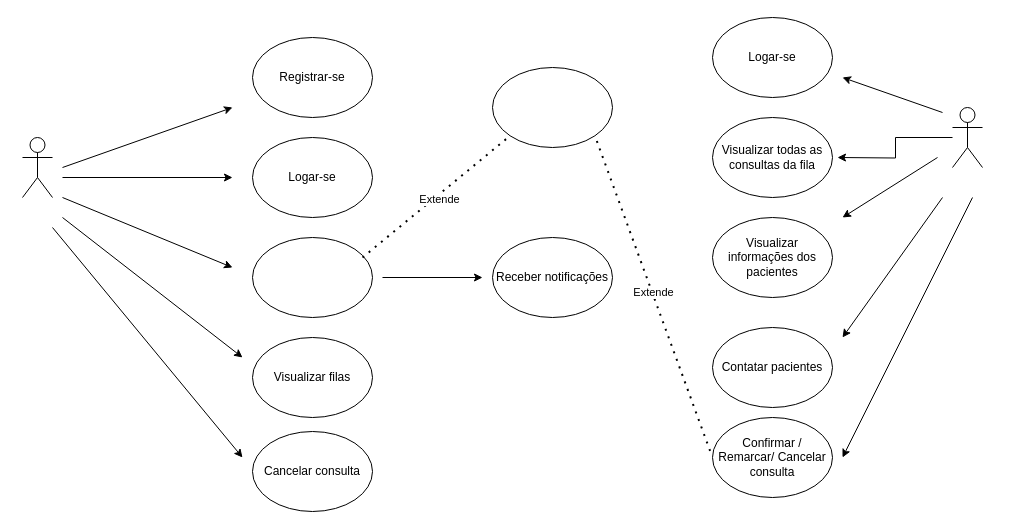
This 1022x529 diagram has some shape labels left out. The shapes that lost their labels are listed below. From the top down, each one's centre as x and y in pixels, then its label:
At point (552, 107): "CRUD".
At point (967, 137): "Administrador".
At point (37, 167): "Usuário".
At point (312, 277): "Marcar consulta".
